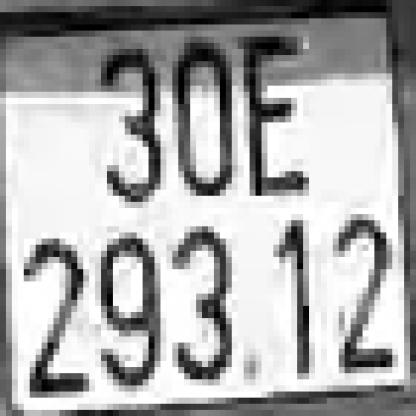0: (172, 43, 232, 196)
1: (267, 214, 321, 373)
2: (24, 233, 89, 392), (327, 214, 392, 367)
3: (101, 49, 160, 208), (172, 226, 232, 380)
9: (101, 233, 166, 380)
E: (238, 43, 309, 196)
